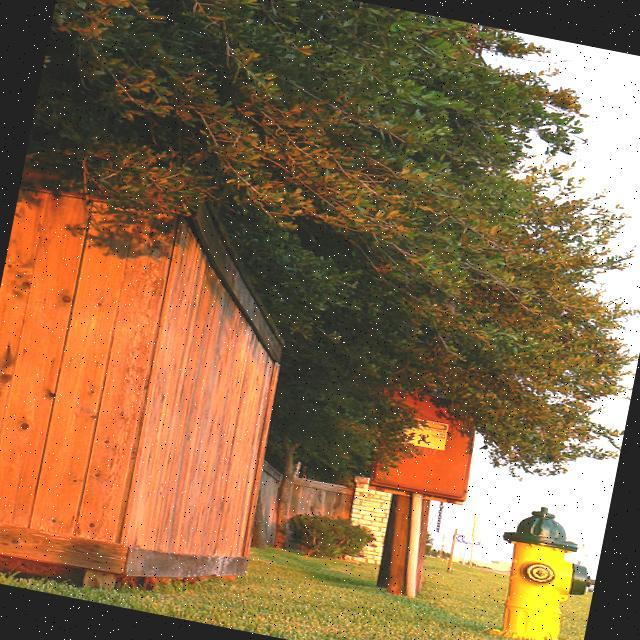fire_hydrant: (482, 491, 608, 640)
